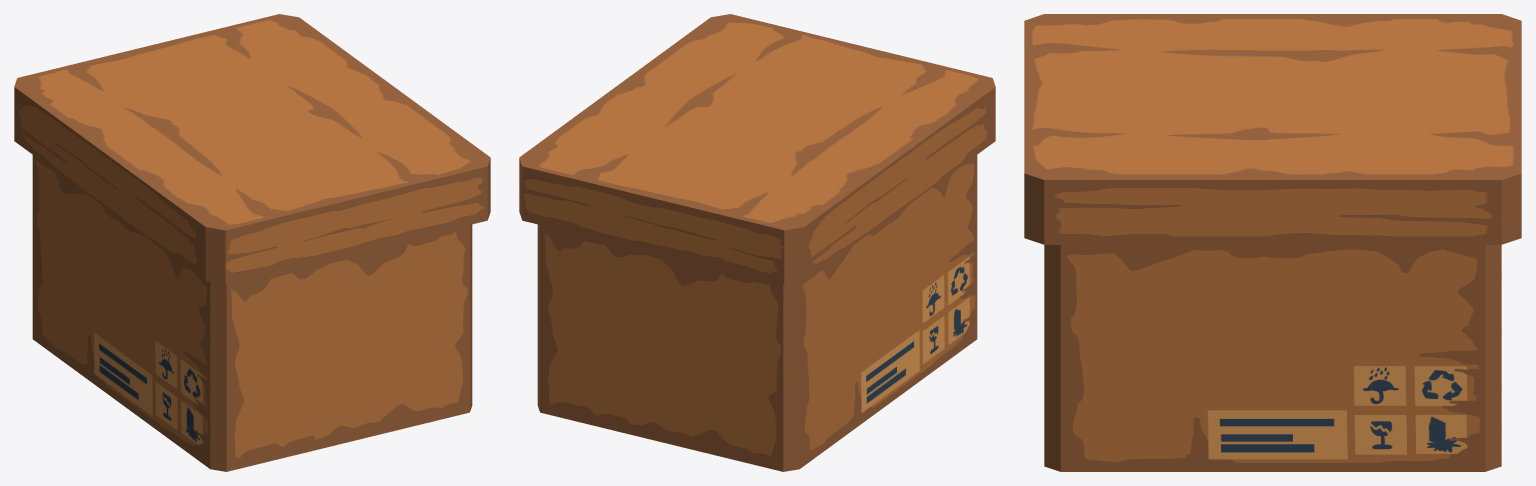
The picture shows the model from 3 angles, left to right: view 1: azimuth 30°, elevation 25°; view 2: azimuth 150°, elevation 25°; view 3: azimuth 270°, elevation 25°; orthographic projection. The views are drawn at different scales.
Visible parts, largest first — view 1: Boxv2; view 2: Boxv2; view 3: Boxv2.
Boxes of the visible parts, x1,y1,x2,y2 form: Boxv2: (14, 14, 490, 471); Boxv2: (519, 14, 995, 471); Boxv2: (1024, 14, 1521, 471).
Bounding box in the file's own units: 51.53 × 43.21 × 65.2.
1 material, 1 textured.
